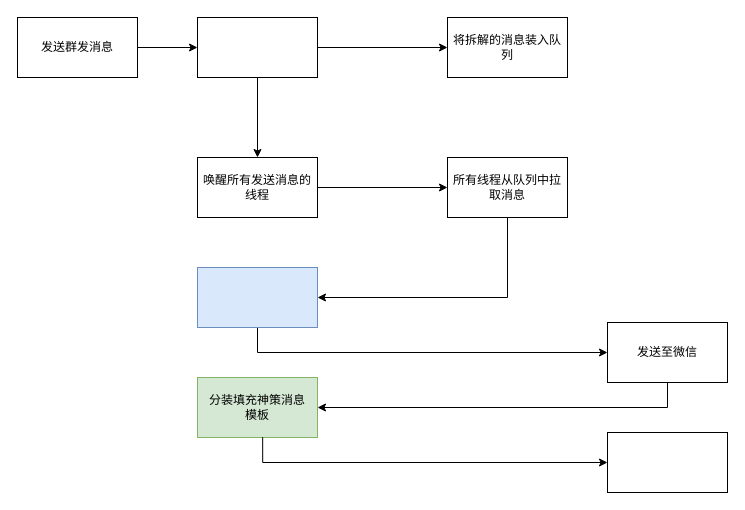
Image size: 745x510. Some labels were removed from this diagram. Here are the shapes that lost their labels. From the top down, the box of each, then its label:
(196, 16, 318, 78): 拆解消息
(196, 266, 318, 328): 封装填充微信消息
(606, 432, 728, 492): 发送至神策
